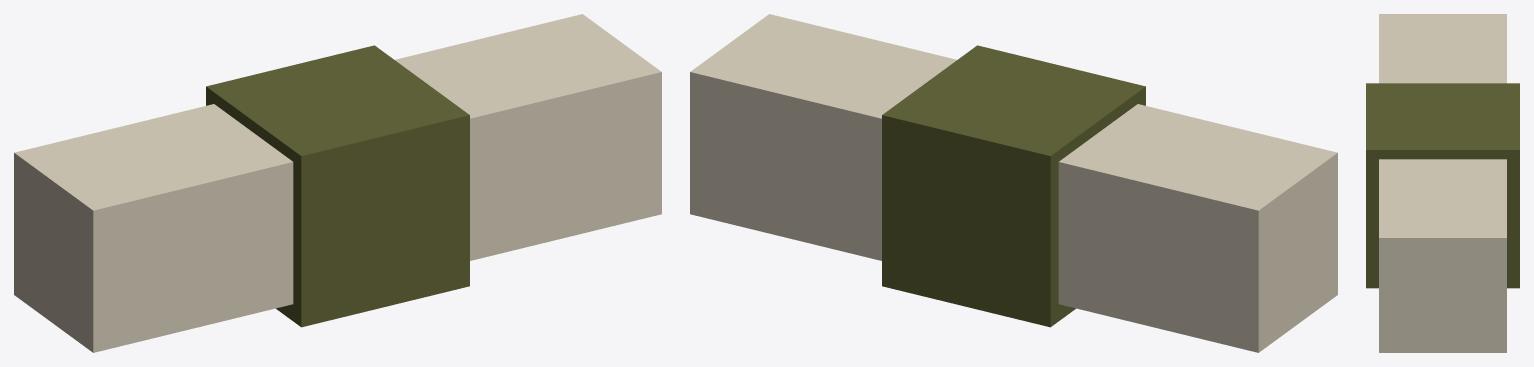
Rendered from Scroll 01.FBX.
3 renders of one model, left to right at view 1: azimuth 30°, elevation 25°; view 2: azimuth 150°, elevation 25°; view 3: azimuth 270°, elevation 25°, orthographic. The views are drawn at different scales.
Parts seen in each view (by area): view 1: Scroll 01; view 2: Scroll 01; view 3: Scroll 01.
Boxes of the visible parts, <box> form: Scroll 01: <box>14,14,661,352</box>; Scroll 01: <box>690,14,1337,352</box>; Scroll 01: <box>1366,14,1519,352</box>.
Bounding box in the file's own units: 66.84 × 19.24 × 19.41.
